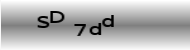7: (73, 22, 86, 37)
D: (49, 10, 64, 23)
S: (35, 15, 49, 28)
d: (88, 22, 101, 35), (101, 14, 114, 27)
